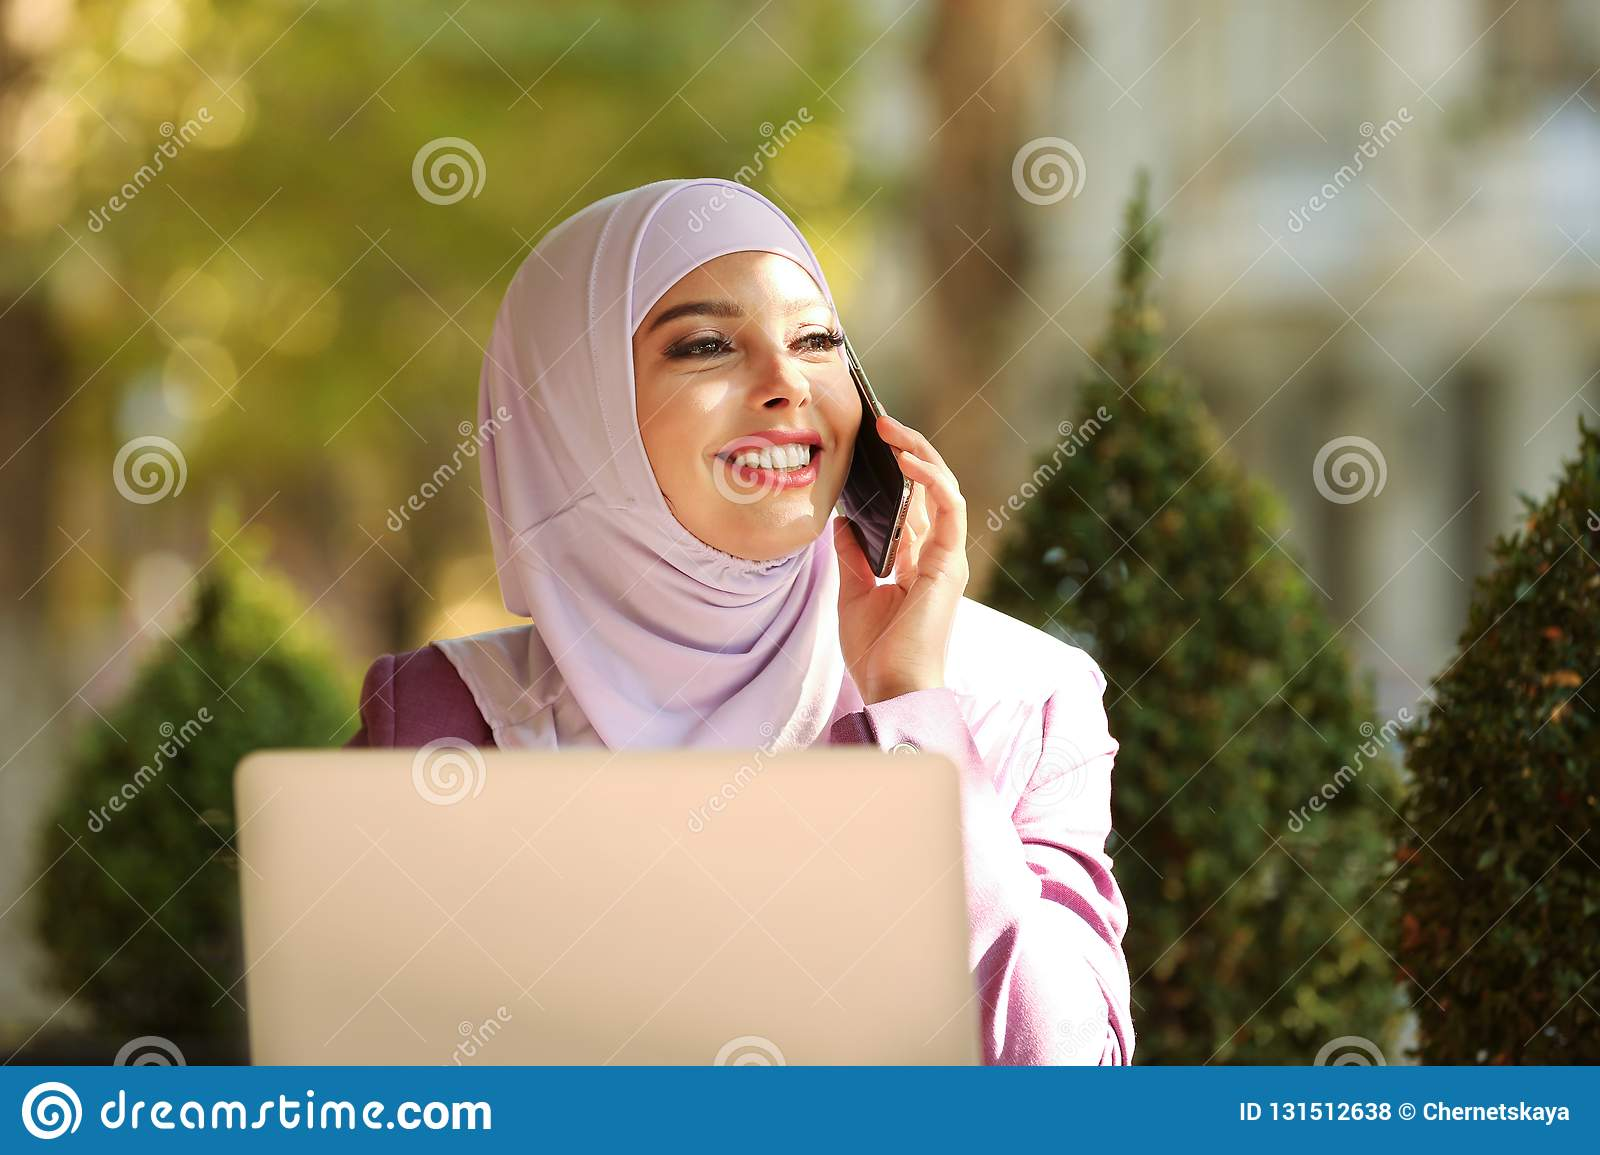phone: (830, 346, 917, 586)
talk: (645, 293, 971, 704)
